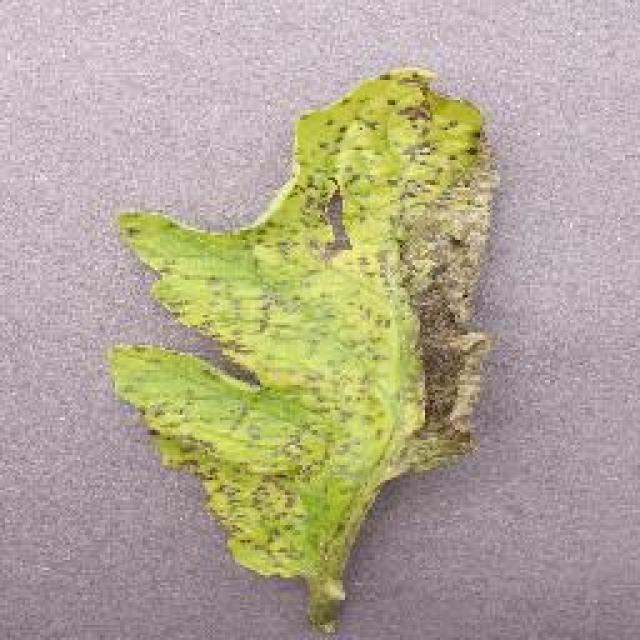Tomato Septoria spot leaf: (106, 58, 496, 580)
